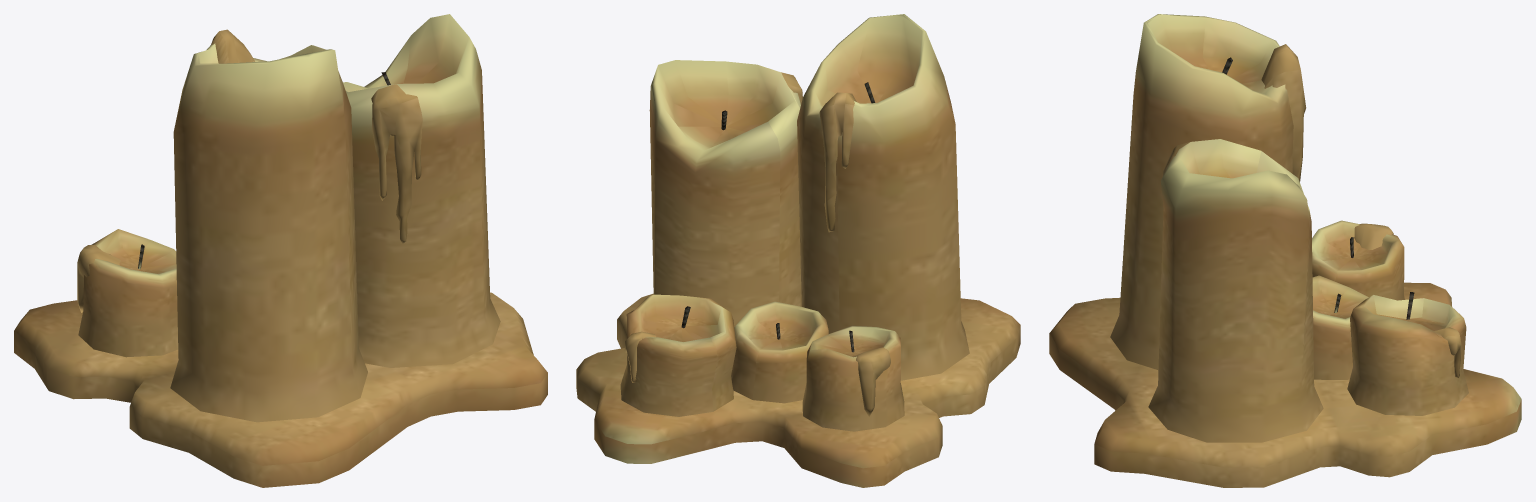
The model's file is GEN_PRO_Candle_Group_01A_LOD0-transformed.glb.
3 views of the same model, side by side, from view 1: azimuth 30°, elevation 25°; view 2: azimuth 150°, elevation 25°; view 3: azimuth 270°, elevation 25° (orthographic). The views are drawn at different scales.
Parts seen in each view (by area): view 1: default; view 2: default; view 3: default.
Boxes of the visible parts, box(x1,y1,x2,y2) form: default: box(14, 14, 547, 487); default: box(576, 14, 1020, 487); default: box(1049, 14, 1521, 487).
Bounding box in the file's own units: 0.2627 × 0.2345 × 0.2869.
1 material, 1 textured.
